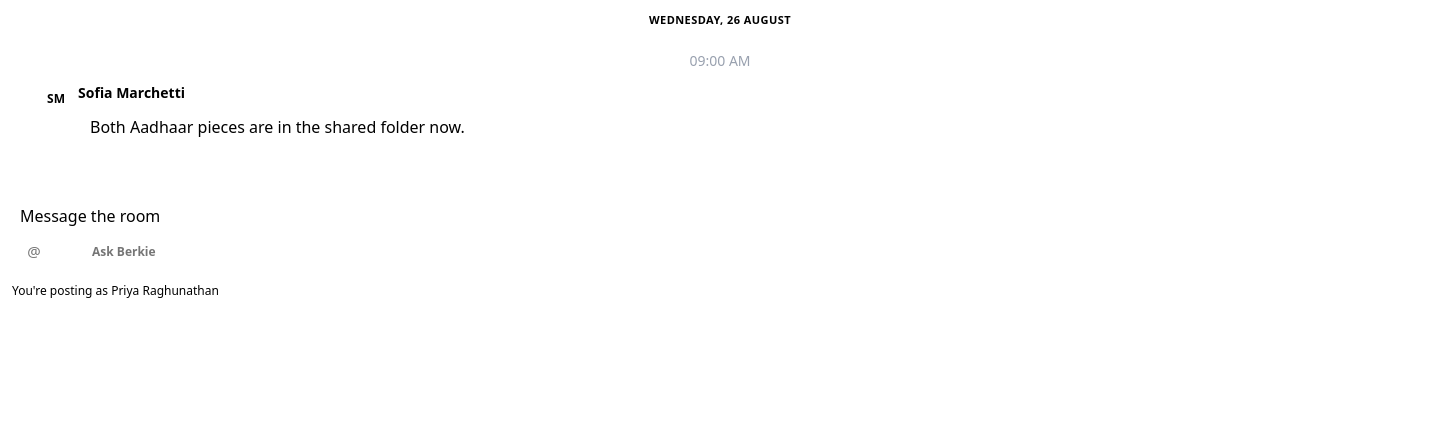
Test: CommunityGroupChatPanel › shows a queued reply as waiting to send inside the open thread
Expected: the text "Reading them tonight." is not shown
Hover over the element showing "Both Aadhaar pieces are in the shared folder now.".
mouse_move(277, 127)  # box [90, 116, 465, 138]
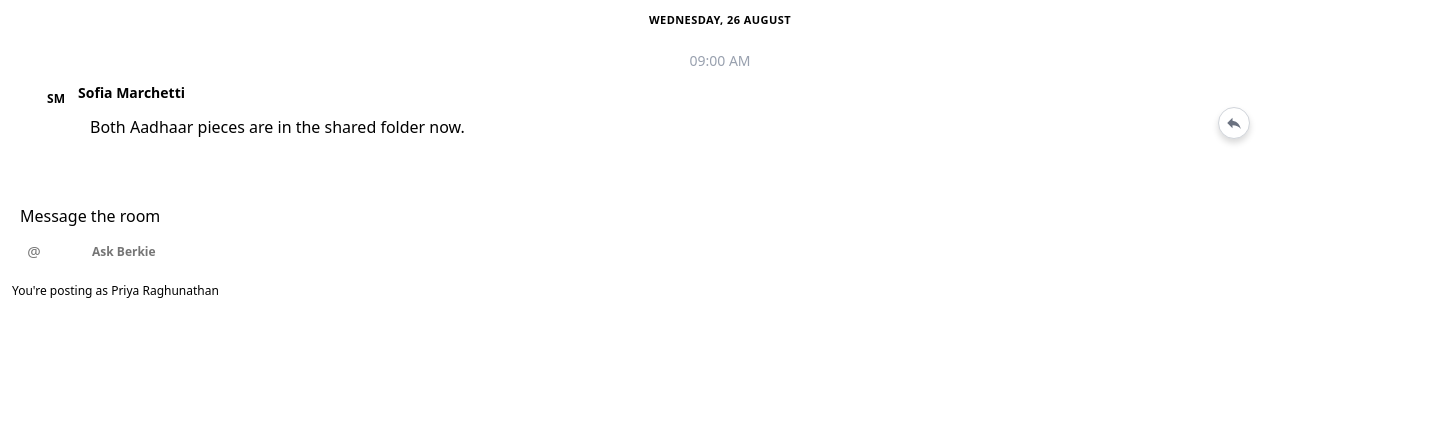
Click the button named "Reply to Sofia Marchetti".
click(1234, 123)  # box [1218, 107, 1250, 139]
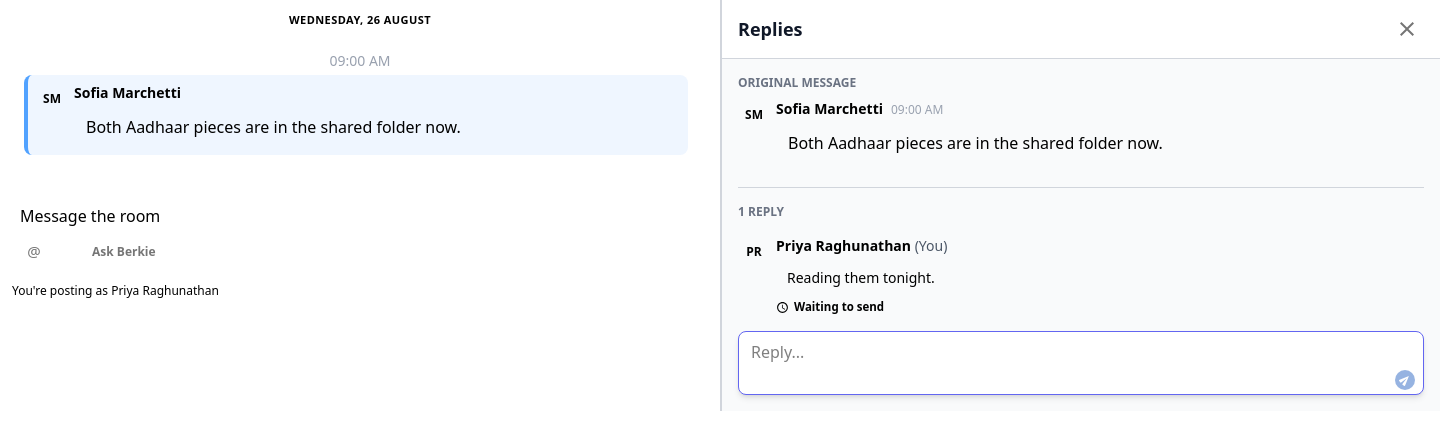
Expected: the text "Reading them tonight." is shown, [787, 268, 935, 287]
Expected: the text "Waiting to send" is shown, [794, 300, 884, 315]
